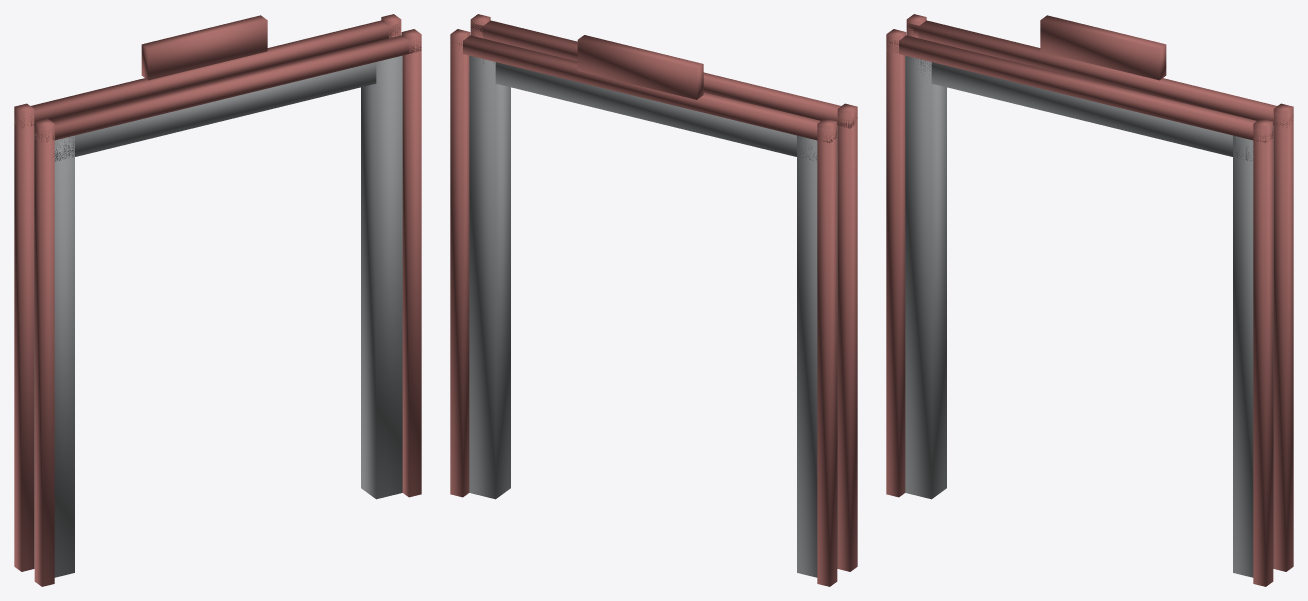
Rendered from doorway_emergency_exit_w182_h240_d16.glb.
The picture shows the model from 3 angles, left to right: view 1: azimuth 30°, elevation 25°; view 2: azimuth 150°, elevation 25°; view 3: azimuth 330°, elevation 25°; orthographic projection.
Visible parts, largest first — view 1: world; view 2: world; view 3: world.
Boxes of the visible parts, x1,y1,x2,y2 form: world: (14,14,421,586); world: (450,14,857,586); world: (886,14,1293,586).
Size of the model in its own units: 2.29 by 2.82 by 0.3203.
